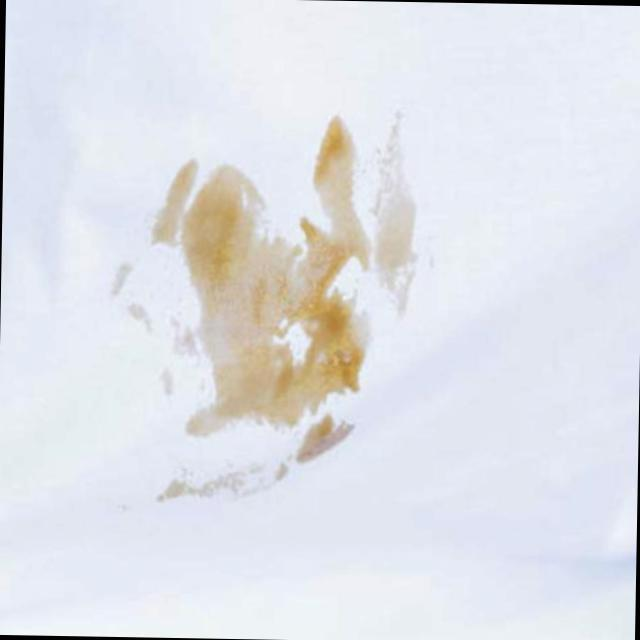coffee: (170, 119, 362, 442), (374, 121, 421, 313)
